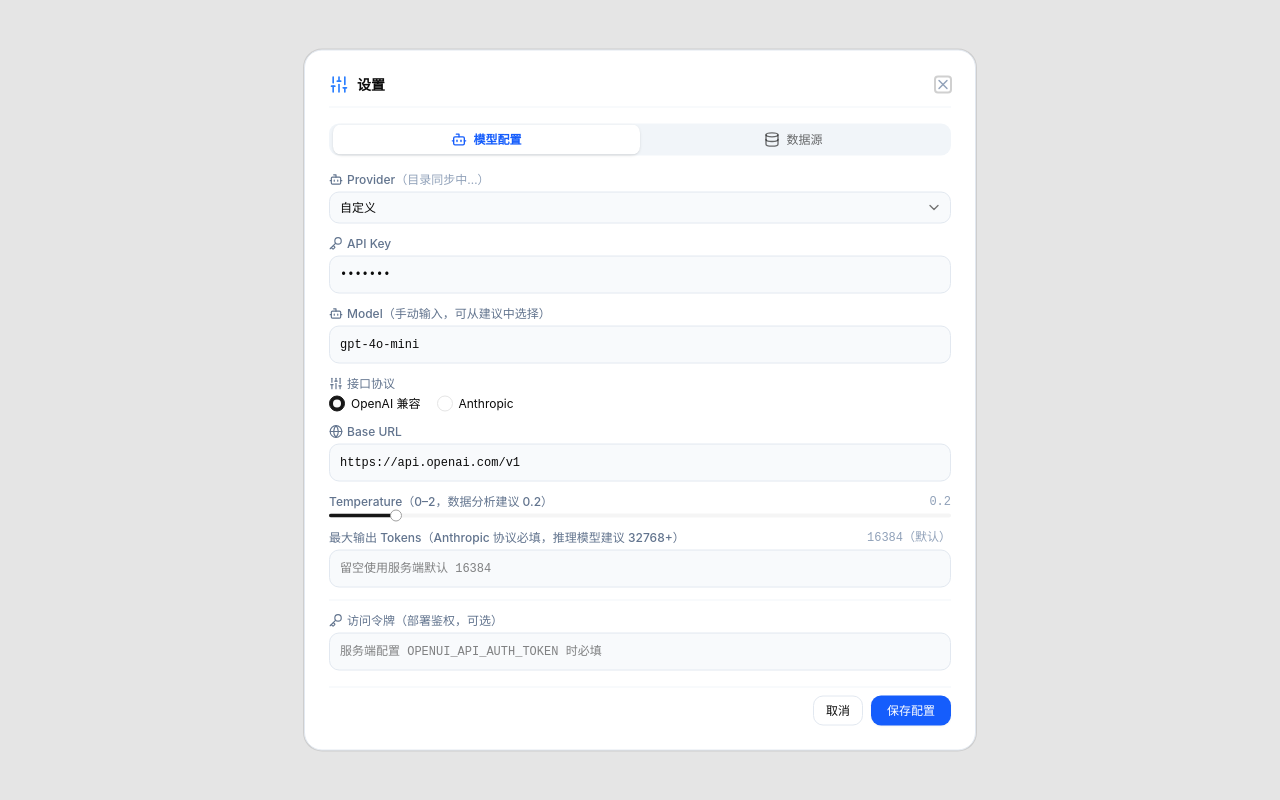
Scenario: SettingsModal tab 布局 › 点击「数据源」tab 切换面板，展示数据源列表与探活状态
This screenshot has width=1280, height=800.
Note: Radix Tabs 在 mousedown 激活（真实浏览器点击天然携带）
Press the mouse on the tab "数据源" at [794, 140], box [640, 124, 947, 154]
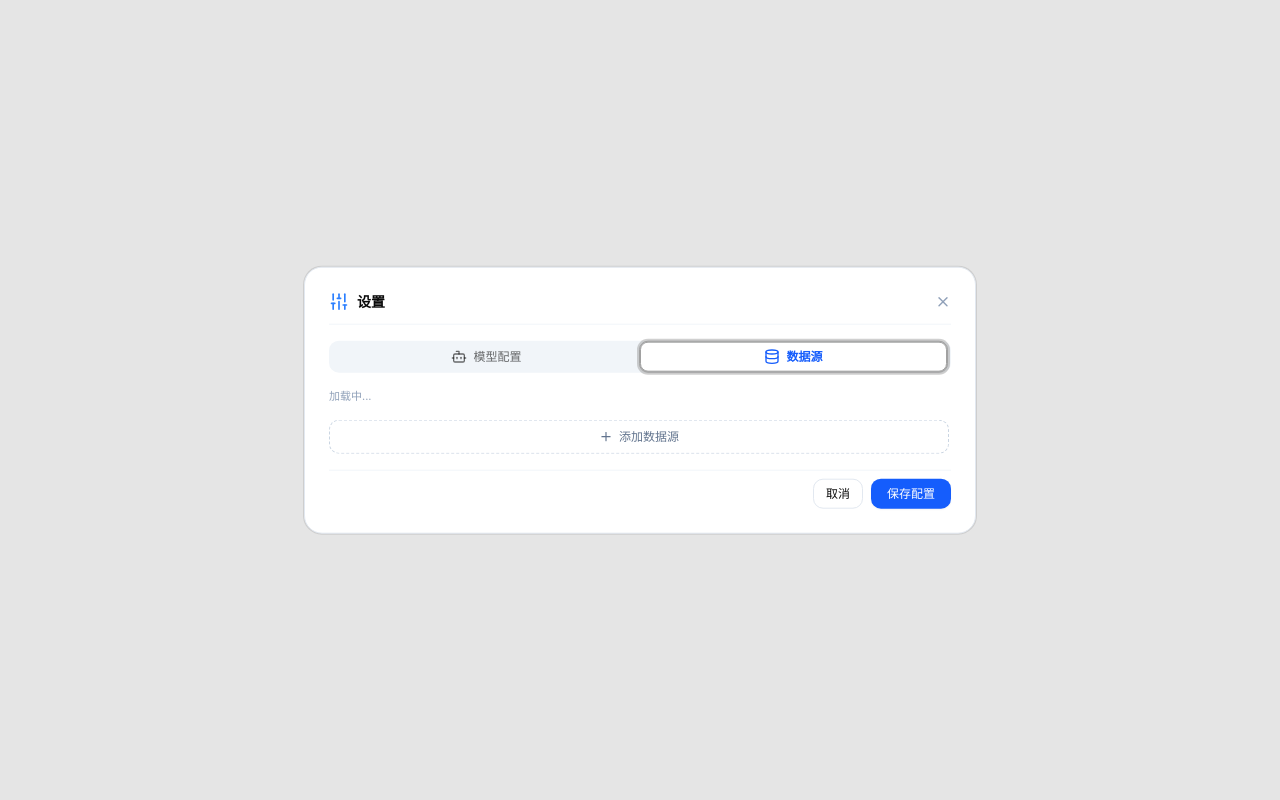
Click the tab "数据源" at [794, 357], box [640, 342, 947, 372]
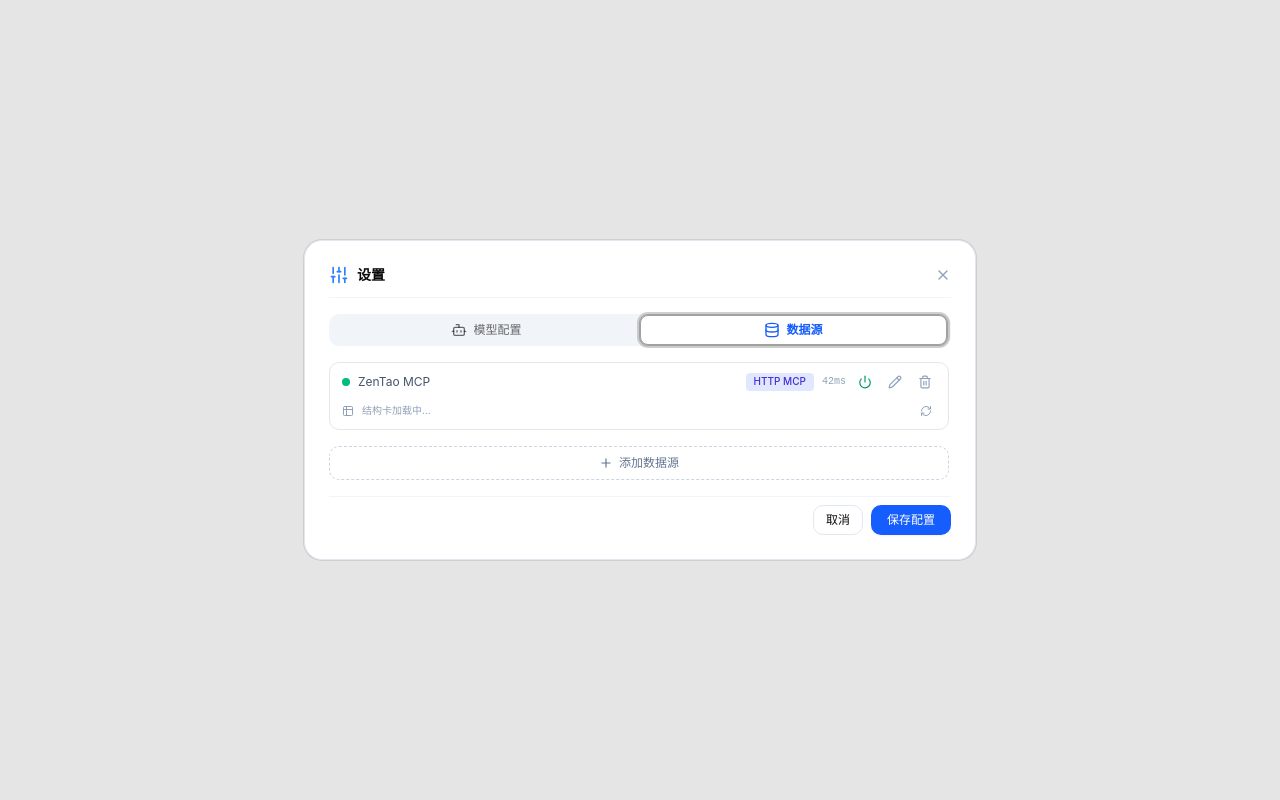
Expected: the button "添加数据源" is shown, [329, 446, 949, 480]
Expected: the text "ZenTao MCP" is shown, [358, 374, 430, 389]
Expected: the text "42ms" is shown, [822, 375, 846, 389]
